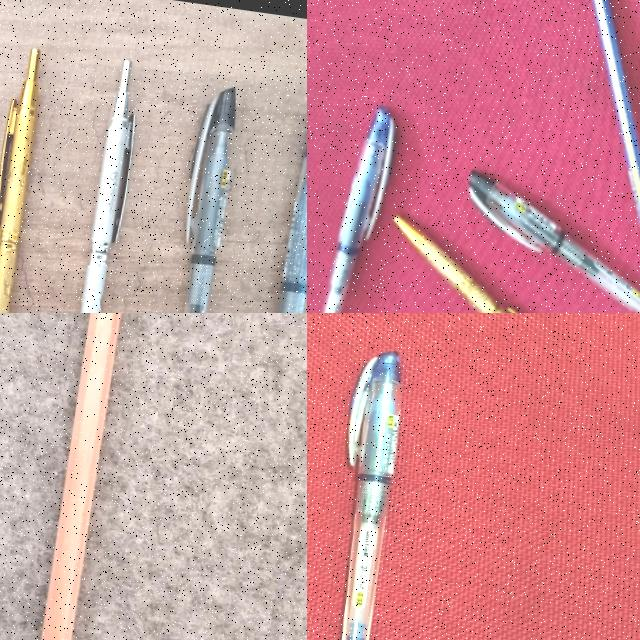pen: (469, 171, 640, 313), (154, 92, 243, 313), (307, 99, 398, 313), (342, 353, 401, 639), (247, 113, 307, 313)
pencil: (41, 313, 121, 639), (591, 0, 640, 230)
signature pen: (58, 58, 146, 313), (394, 216, 517, 313), (0, 61, 46, 313)
